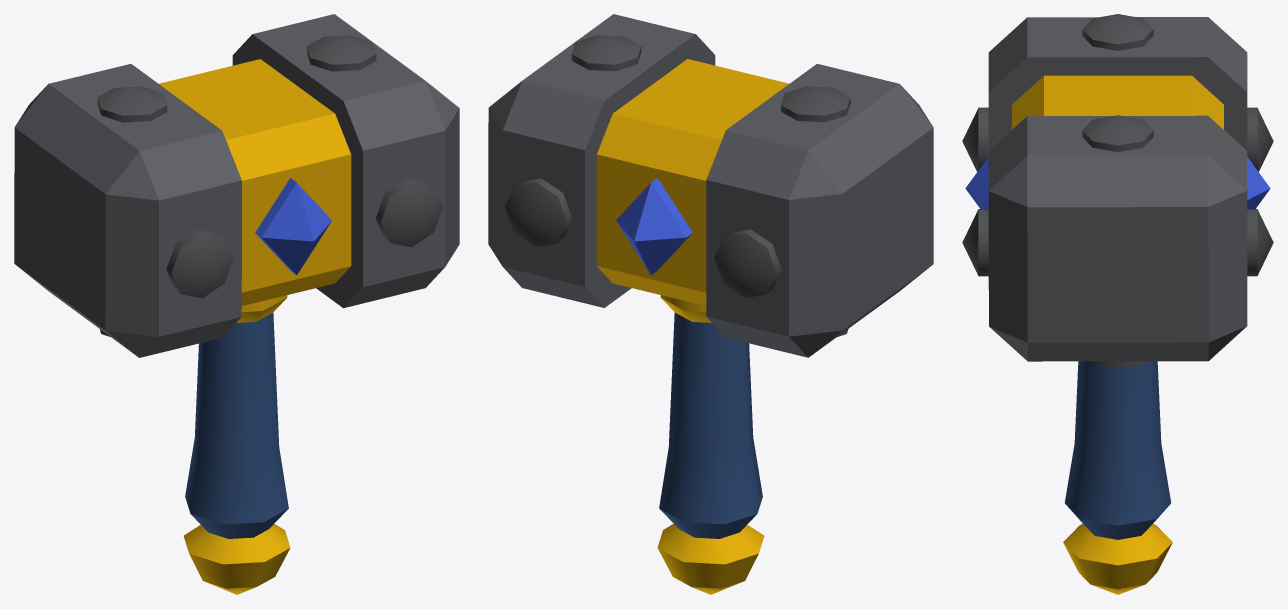
Rendered from Hammer_RHand_8.fbx.
3 views of the same model, side by side, from view 1: azimuth 30°, elevation 25°; view 2: azimuth 150°, elevation 25°; view 3: azimuth 270°, elevation 25° (orthographic).
Visible parts, largest first — view 1: Hammer_RHand_8; view 2: Hammer_RHand_8; view 3: Hammer_RHand_8.
Part boxes in pixels (left/top/right/bottom): Hammer_RHand_8: left=14, top=14, right=459, bottom=594; Hammer_RHand_8: left=488, top=14, right=933, bottom=594; Hammer_RHand_8: left=962, top=14, right=1273, bottom=594.
Bounding box in the file's own units: 34.72 × 49.91 × 26.66.
